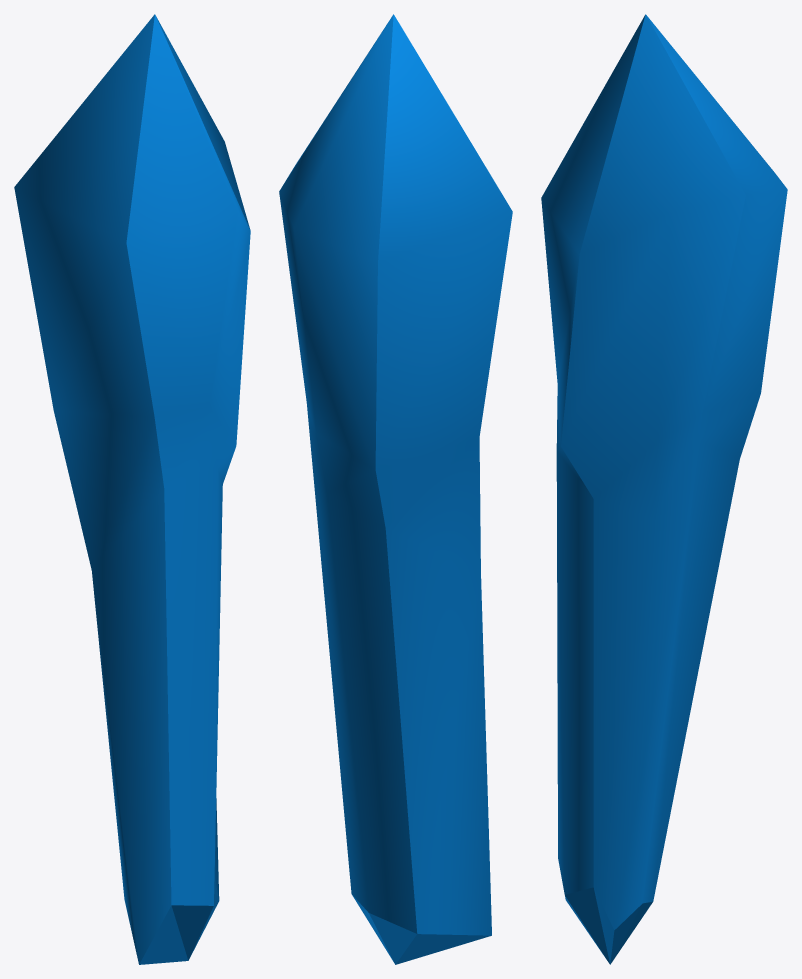
Rendered from crystalwand_1 (1).fbx.
The picture shows the model from 3 angles, left to right: view 1: azimuth 30°, elevation 25°; view 2: azimuth 150°, elevation 25°; view 3: azimuth 270°, elevation 25°; orthographic projection. The views are drawn at different scales.
Parts seen in each view (by area): view 1: crystalwand_1; view 2: crystalwand_1; view 3: crystalwand_1.
Boxes of the visible parts, bbox=[...] form: crystalwand_1: bbox=[14, 14, 250, 964]; crystalwand_1: bbox=[279, 14, 512, 964]; crystalwand_1: bbox=[541, 14, 787, 964].
Bounding box in the file's own units: 2.32 × 9.89 × 2.34.
